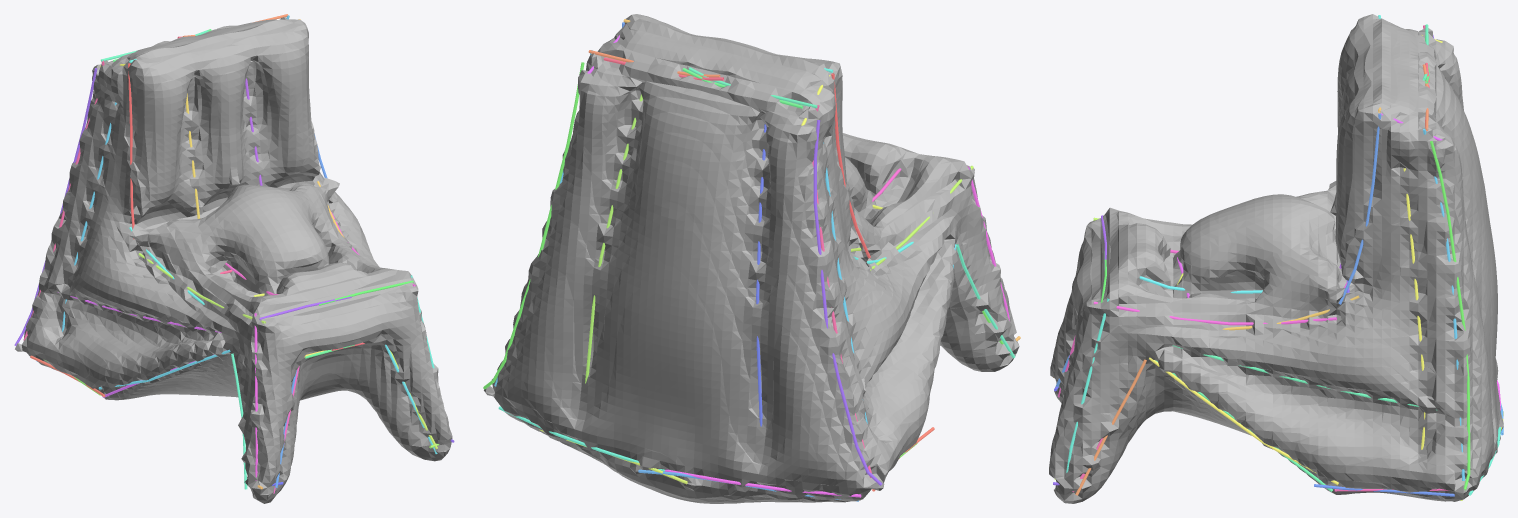
Rendered from author1_chair_ff.gltf.
The picture shows the model from 3 angles, left to right: view 1: azimuth 30°, elevation 25°; view 2: azimuth 150°, elevation 25°; view 3: azimuth 270°, elevation 25°; orthographic projection. The views are drawn at different scales.
Size of the model in its own units: 0.5781 by 0.5916 by 0.6069.
